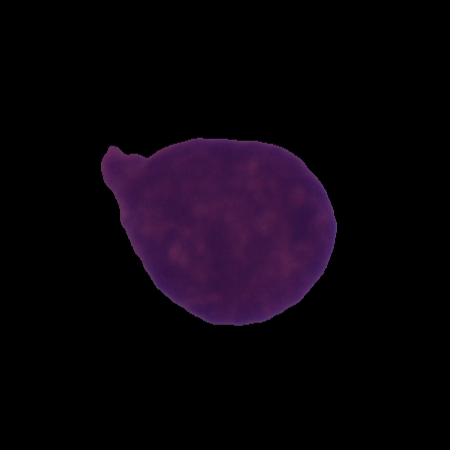ALL: (97, 132, 341, 329)
